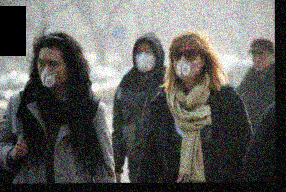with_mask: (35, 54, 65, 88), (173, 46, 201, 80), (133, 45, 155, 73)
without_mask: (250, 48, 270, 71)
